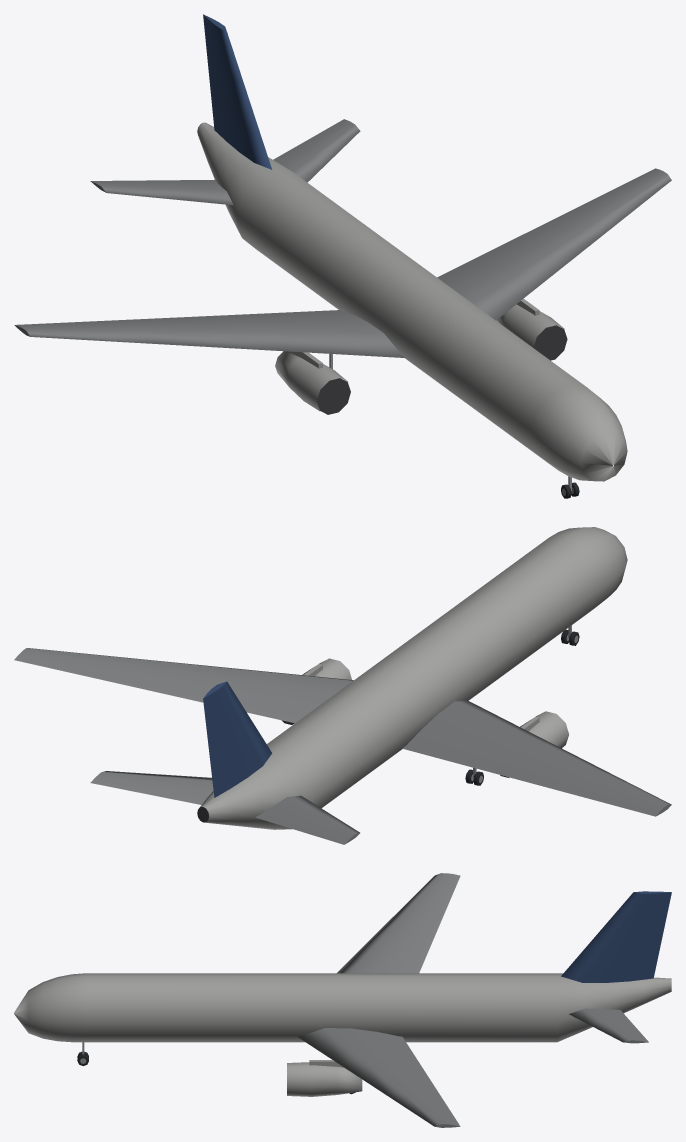
Rendered from airliner_far.glb.
3 renders of one model, top to bottom at view 1: azimuth 30°, elevation 25°; view 2: azimuth 150°, elevation 25°; view 3: azimuth 270°, elevation 25°, orthographic. The views are drawn at different scales.
Parts seen in each view (by area): view 1: paint-body, belly-body, trim-body, fan-body; view 2: paint-body, belly-body, trim-body; view 3: paint-body, belly-body, trim-body.
Boxes of the visible parts, x1,y1,x2,y2 form: paint-body: (197, 122, 627, 481); belly-body: (14, 119, 671, 357); trim-body: (203, 14, 272, 169); fan-body: (317, 325, 567, 414); paint-body: (199, 527, 627, 829); belly-body: (14, 648, 671, 844); trim-body: (203, 681, 272, 797); paint-body: (14, 973, 671, 1096); belly-body: (297, 873, 648, 1127); trim-body: (561, 891, 671, 982).
Size of the model in its own units: 33.96 by 10.84 by 37.61.
